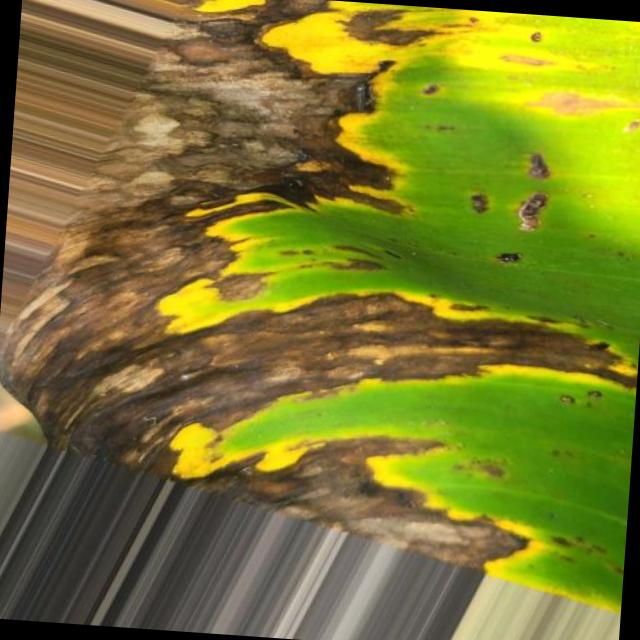Banana_Black_Sigatoka: (12, 241, 640, 605), (94, 0, 561, 266)
